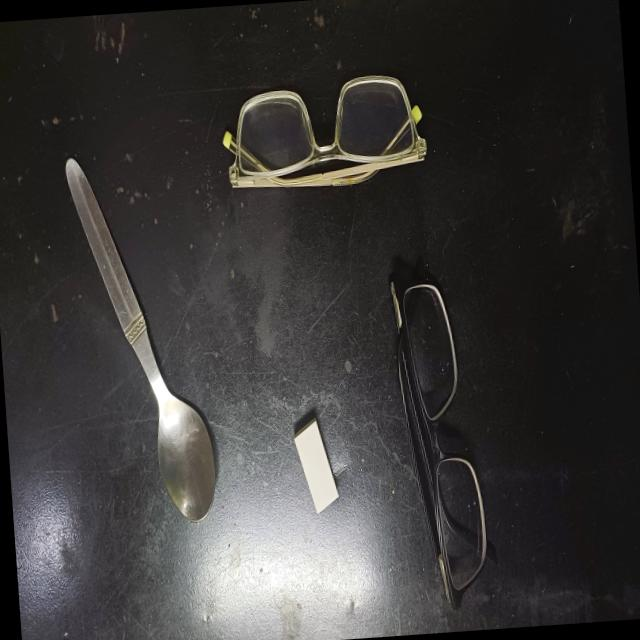Eraser-NonBio: (291, 409, 342, 524)
Spectacles-NonBio: (387, 260, 494, 622), (214, 68, 430, 198)
Steel-NonBio: (40, 136, 228, 544)
